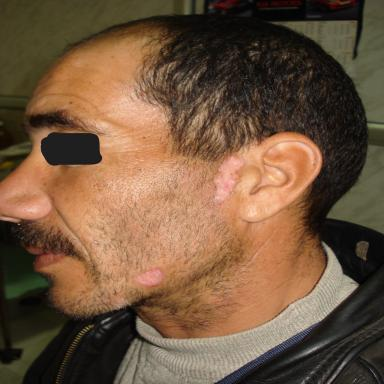Lupus-Erythematosus-Chronicus-Discoides: (214, 155, 244, 203), (136, 268, 164, 287)
